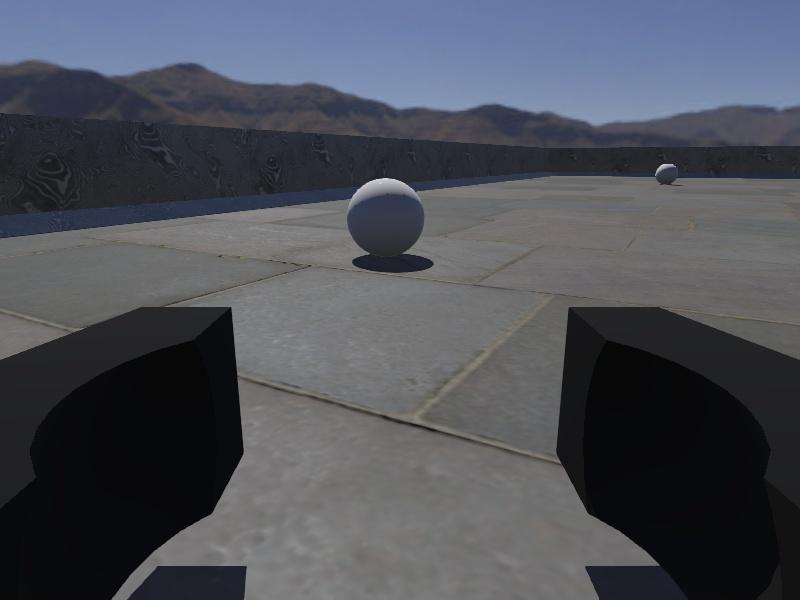white ball: (347, 178, 426, 258), (655, 162, 681, 185)
